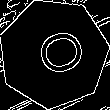O_W: (23, 25, 85, 82)
